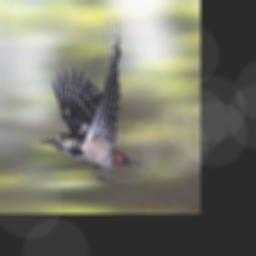Woodpecker: (40, 16, 142, 181)
